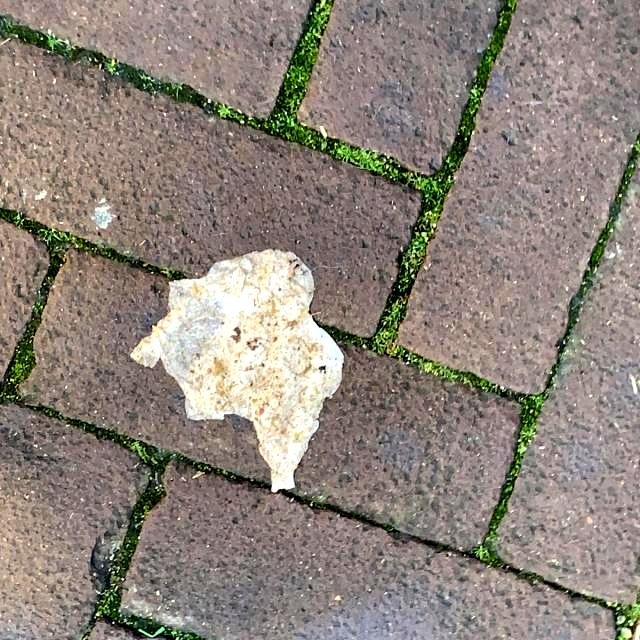Paper: (128, 246, 348, 494)
